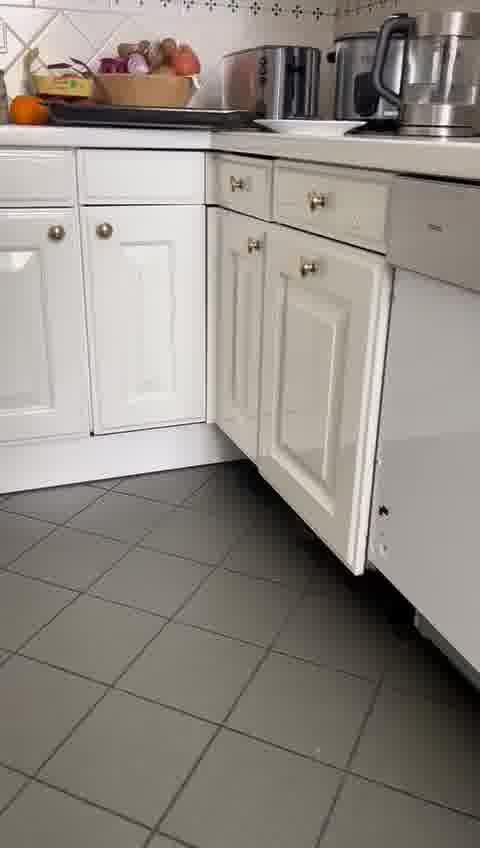cabinet_door: (261, 234, 376, 534), (375, 279, 479, 599), (86, 208, 205, 425), (0, 206, 80, 431), (210, 215, 265, 439), (390, 186, 478, 279), (273, 168, 387, 236), (82, 149, 209, 202), (0, 147, 76, 206), (207, 160, 272, 211)
handle: (298, 256, 321, 286), (307, 189, 330, 218), (93, 218, 115, 248), (46, 220, 67, 250), (247, 233, 266, 259), (426, 219, 447, 242), (229, 175, 247, 196)
